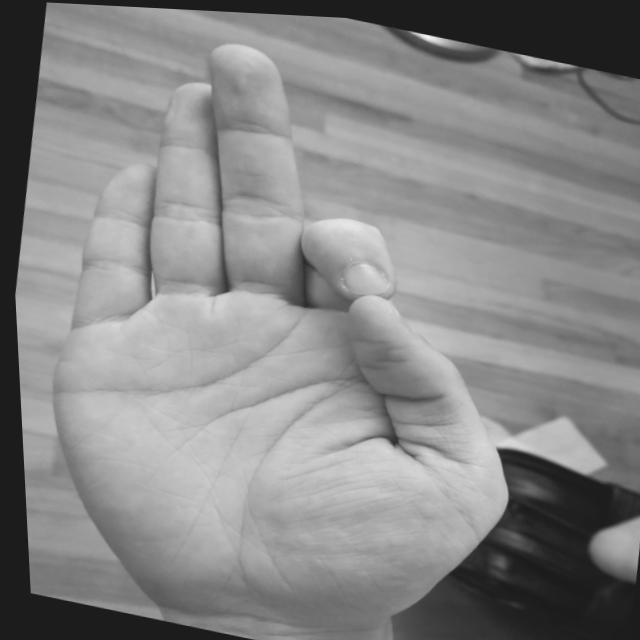F: (0, 1, 585, 639)
